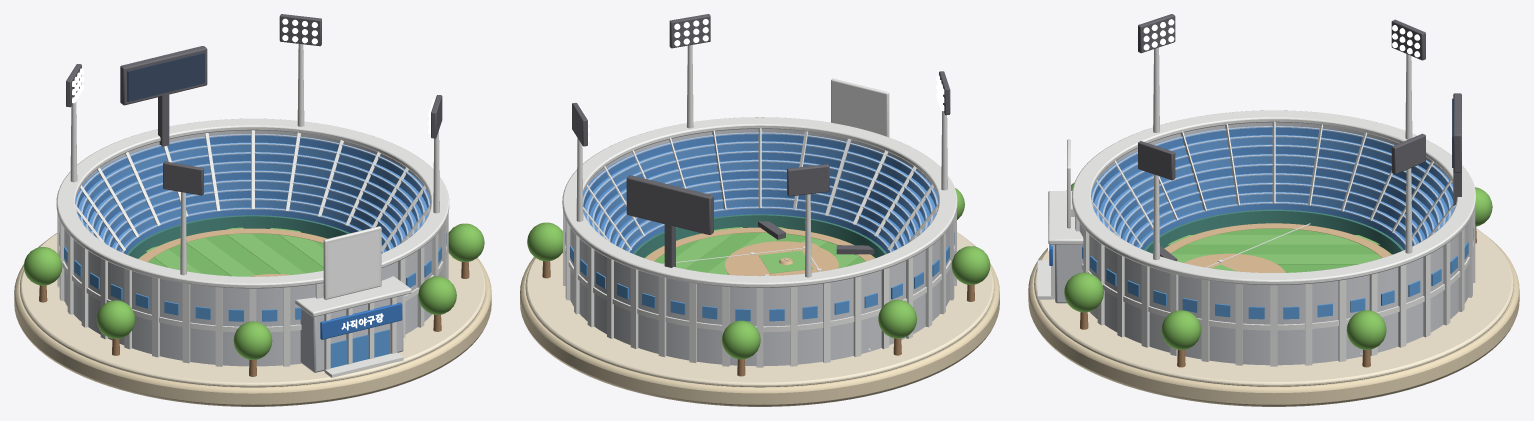
File: sajikbaseballpark.glb
3 views of the same model, side by side, from view 1: azimuth 30°, elevation 25°; view 2: azimuth 150°, elevation 25°; view 3: azimuth 270°, elevation 25° (orthographic). The views are drawn at different scales.
Parts seen in each view (by area): view 1: OuterWall, Base_Top.001, OuterRim, Base.002, Stands_Tier7, Field, FieldWall, Stands_Tier6, SJ_PrintSign, Stands_Tier8, Stands_Tier5, Scoreboard_Screen (+46 smaller); view 2: OuterWall, Base_Top.001, OuterRim, Base.002, Scoreboard, Stands_Tier7, Stands_Tier6, Stands_Tier8, FieldWall, SJ_PrintSign_Frame, Stands_Tier5, Stands_Tier4 (+46 smaller); view 3: OuterWall, Base_Top.001, OuterRim, Base.002, FieldWall, Field, Stands_Tier5, Stands_Tier6, Stands_Tier4, Stands_Tier7, Stands_Tier3, Stands_Tier2 (+45 smaller).
Boxes of the visible parts, <box> form: OuterWall: <box>64,130,441,366</box>; Base_Top.001: <box>20,233,485,387</box>; OuterRim: <box>56,118,449,288</box>; Base.002: <box>14,243,491,406</box>; Stands_Tier7: <box>77,142,428,220</box>; Field: <box>138,233,323,276</box>; FieldWall: <box>126,215,349,258</box>; Stands_Tier6: <box>83,151,422,227</box>; SJ_PrintSign: <box>328,231,379,296</box>; Stands_Tier8: <box>75,135,430,207</box>; Stands_Tier5: <box>88,161,417,232</box>; Scoreboard_Screen: <box>127,53,204,101</box>; OuterWall: <box>570,129,949,366</box>; Base_Top.001: <box>525,232,994,387</box>; OuterRim: <box>562,117,957,287</box>; Base.002: <box>520,241,999,406</box>; Scoreboard: <box>626,175,713,234</box>; Stands_Tier7: <box>583,141,936,219</box>; Stands_Tier6: <box>589,150,930,226</box>; Stands_Tier8: <box>583,132,938,211</box>; FieldWall: <box>633,214,886,257</box>; SJ_PrintSign_Frame: <box>831,78,889,137</box>; Stands_Tier5: <box>594,159,925,232</box>; Stands_Tier4: <box>599,169,919,236</box>; OuterWall: <box>1079,122,1468,365</box>; Base_Top.001: <box>1034,228,1513,386</box>; OuterRim: <box>1072,110,1475,285</box>; Base.002: <box>1028,235,1519,406</box>; FieldWall: <box>1144,209,1403,254</box>; Field: <box>1164,228,1391,272</box>; Stands_Tier5: <box>1104,154,1443,227</box>; Stands_Tier6: <box>1099,144,1448,222</box>; Stands_Tier4: <box>1110,163,1437,232</box>; Stands_Tier7: <box>1093,135,1454,215</box>; Stands_Tier3: <box>1116,173,1431,238</box>; Stands_Tier2: <box>1122,182,1425,242</box>.
Bounding box in the file's own units: 6.9 × 3.43 × 6.9.
